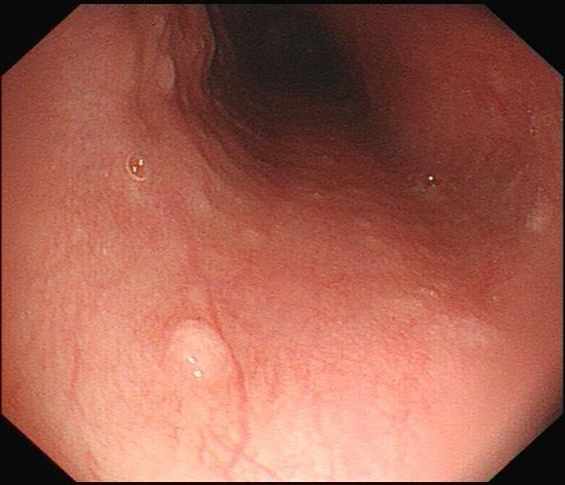Polyp: (160, 309, 240, 381)
